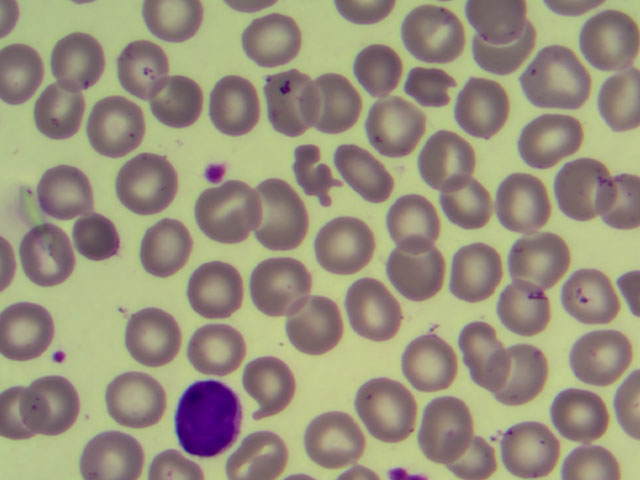Platelets: (203, 163, 225, 185), (390, 468, 409, 480), (53, 351, 66, 363), (417, 473, 429, 480)
RBC: (523, 40, 589, 113), (88, 83, 149, 157), (252, 178, 309, 252), (356, 374, 418, 442), (343, 275, 406, 341), (103, 366, 168, 428), (331, 142, 396, 204), (401, 4, 464, 67), (416, 129, 477, 193), (246, 257, 313, 315), (555, 156, 612, 224), (283, 293, 344, 356), (125, 305, 185, 367), (1, 299, 60, 362), (456, 324, 511, 391), (551, 385, 611, 446), (239, 356, 300, 416), (499, 419, 561, 478), (300, 410, 362, 469), (579, 9, 637, 72), (458, 72, 513, 138), (315, 216, 376, 275), (569, 327, 631, 385), (496, 175, 558, 233), (448, 243, 506, 305), (385, 192, 443, 254), (418, 397, 475, 460), (18, 221, 75, 284), (562, 269, 621, 329), (510, 232, 570, 291), (118, 149, 177, 209), (516, 116, 582, 168), (401, 332, 459, 391), (86, 97, 145, 155), (226, 425, 288, 480), (241, 11, 303, 66), (207, 73, 260, 137), (79, 428, 144, 480), (114, 38, 171, 97), (189, 318, 249, 374), (138, 219, 193, 278), (290, 144, 345, 203), (306, 72, 361, 131), (352, 41, 407, 100), (28, 376, 80, 438), (495, 342, 547, 403), (188, 260, 243, 317), (497, 280, 553, 335), (50, 31, 104, 87), (596, 67, 640, 133), (1, 41, 47, 101), (37, 166, 90, 216), (446, 430, 499, 480), (440, 177, 493, 227), (405, 62, 458, 112), (76, 212, 129, 262), (153, 77, 206, 127), (32, 81, 84, 131), (143, 1, 203, 44), (470, 1, 523, 49), (596, 174, 639, 230), (1, 387, 37, 444), (564, 442, 617, 480), (610, 372, 640, 437), (149, 445, 203, 480), (337, 1, 394, 25), (615, 272, 640, 314), (542, 1, 601, 16), (1, 237, 19, 285), (223, 1, 273, 18), (1, 1, 26, 33)
WBC: (180, 379, 241, 456)
